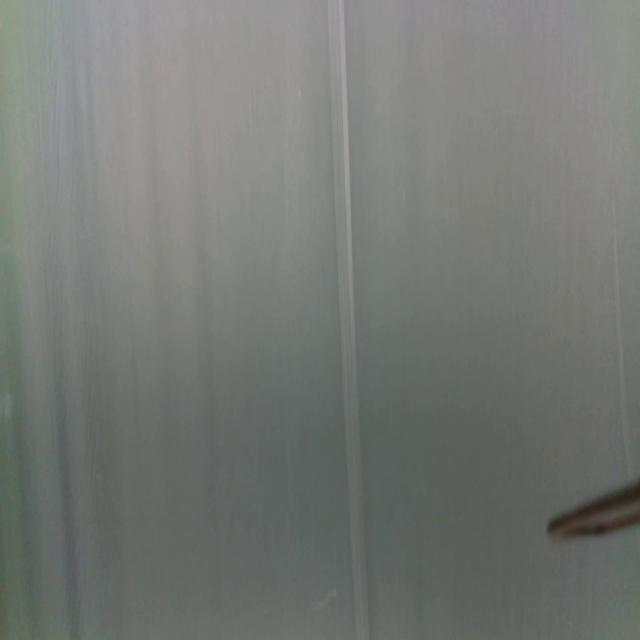crease: (328, 0, 371, 639), (610, 197, 633, 488)
